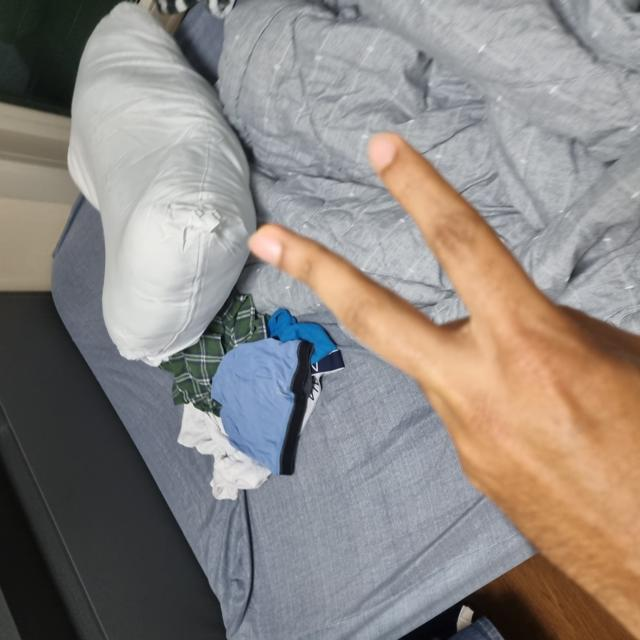Scissors: (3, 257, 508, 639)
